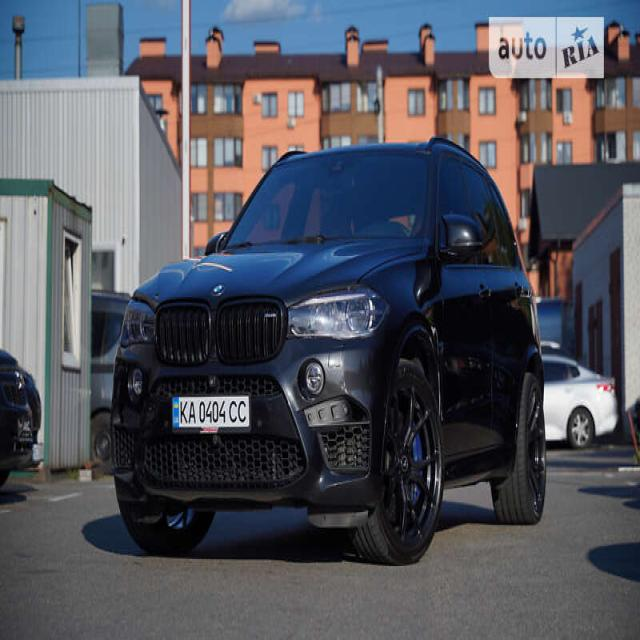plate: (169, 392, 254, 440)
